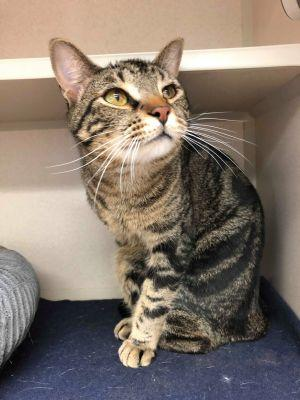bengal: (43, 31, 199, 173)
